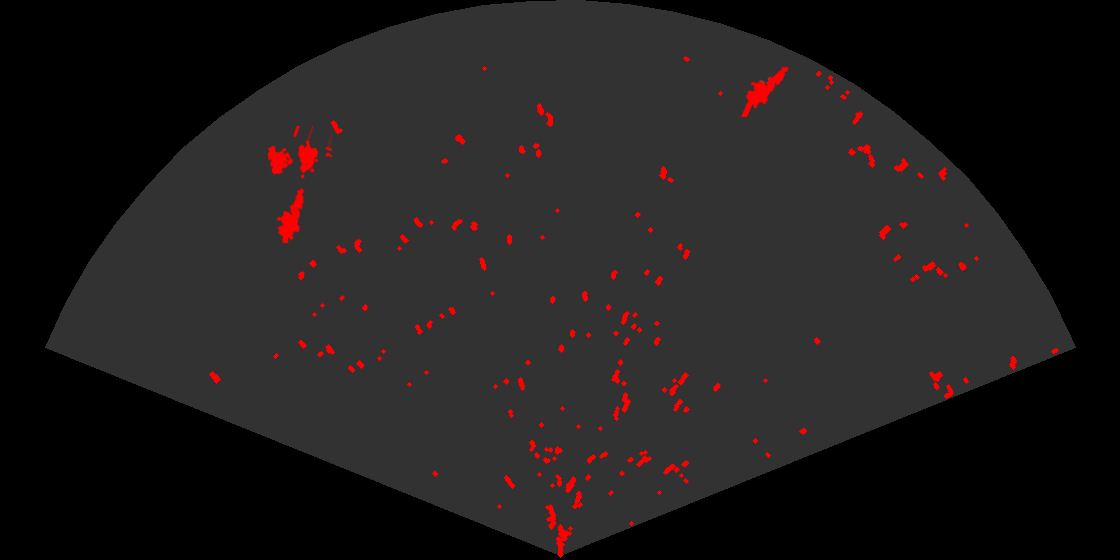cage: (266, 126, 332, 180)
frogman: (739, 64, 790, 117), (274, 187, 305, 243)
